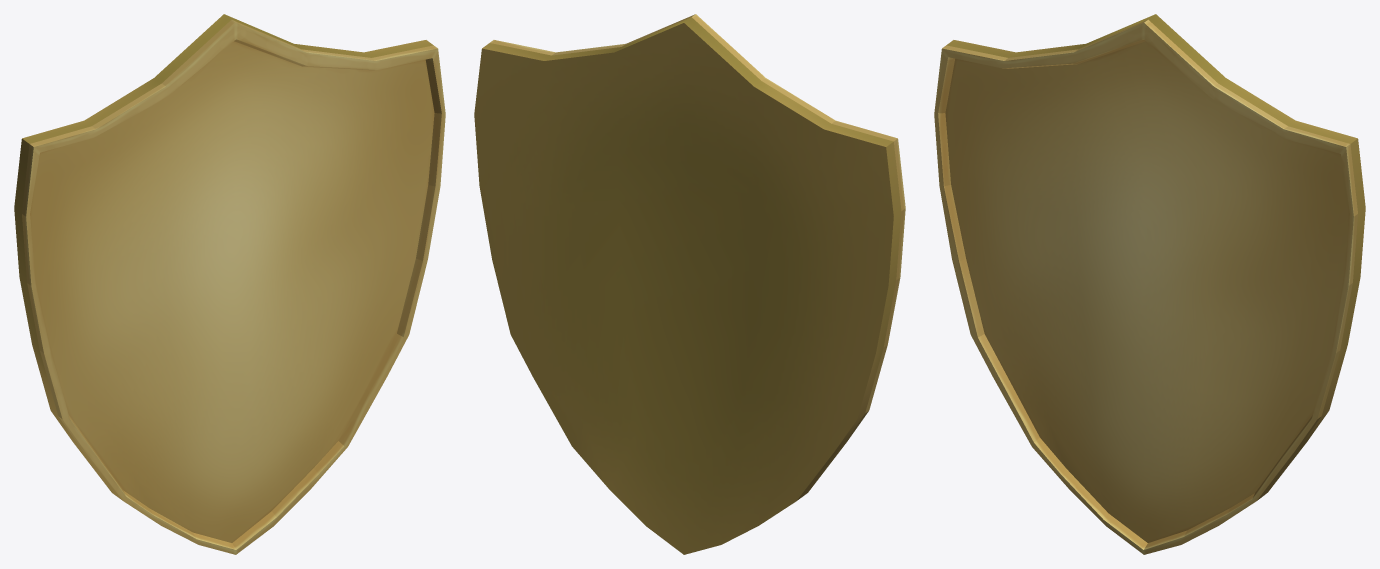
File: goudschild.FBX
3 renders of one model, left to right at view 1: azimuth 30°, elevation 25°; view 2: azimuth 150°, elevation 25°; view 3: azimuth 330°, elevation 25°, orthographic.
Parts seen in each view (by area): view 1: Box001; view 2: Box001; view 3: Box001.
Boxes of the visible parts, x1,y1,x2,y2 form: Box001: (14,14,445,554); Box001: (474,14,905,554); Box001: (934,14,1365,554).
Bounding box in the file's own units: 40.1 × 48.61 × 2.32.
1 material, 1 textured.
